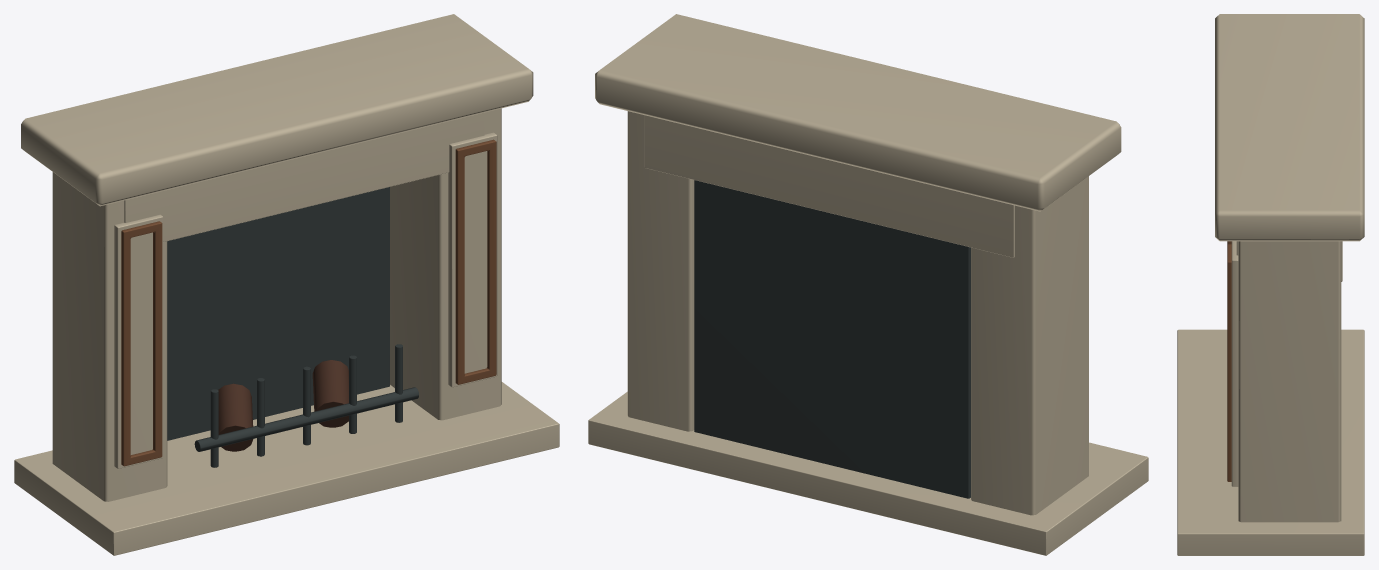
File: rpg-mansion-fireplace-01.glb
The picture shows the model from 3 angles, left to right: view 1: azimuth 30°, elevation 25°; view 2: azimuth 150°, elevation 25°; view 3: azimuth 270°, elevation 25°; orthographic projection. The views are drawn at different scales.
Parts seen in each view (by area): view 1: rpg-mansion-fireplace-01; view 2: rpg-mansion-fireplace-01; view 3: rpg-mansion-fireplace-01.
Boxes of the visible parts, x1,y1,x2,y2 form: rpg-mansion-fireplace-01: (14, 14, 559, 555); rpg-mansion-fireplace-01: (588, 14, 1148, 555); rpg-mansion-fireplace-01: (1177, 14, 1364, 555).
Size of the model in its own units: 1.55 by 1.21 by 0.6.
